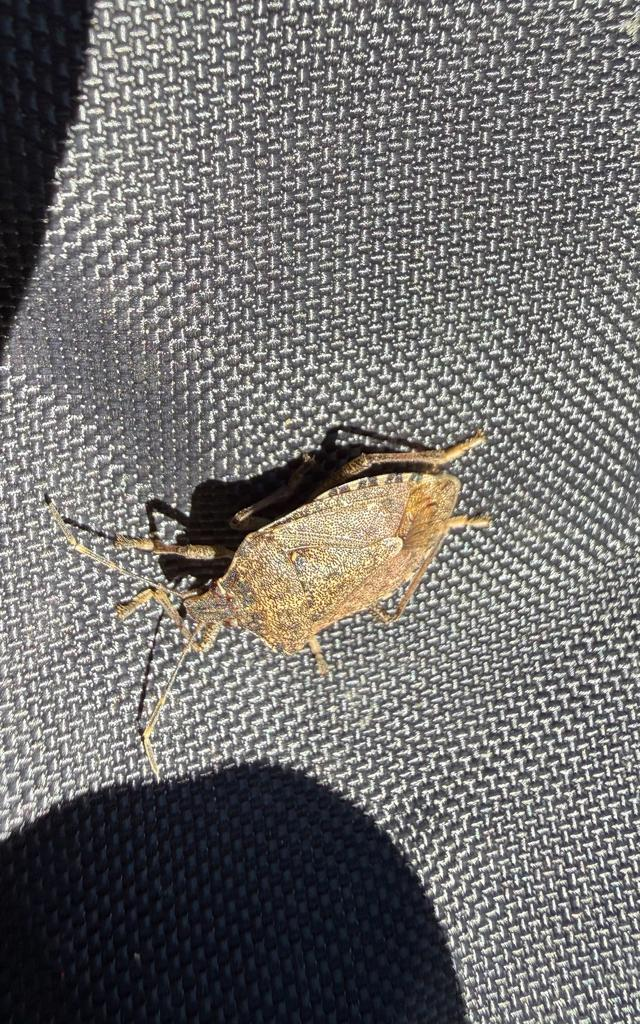stink_bugs: (0, 409, 590, 804)
